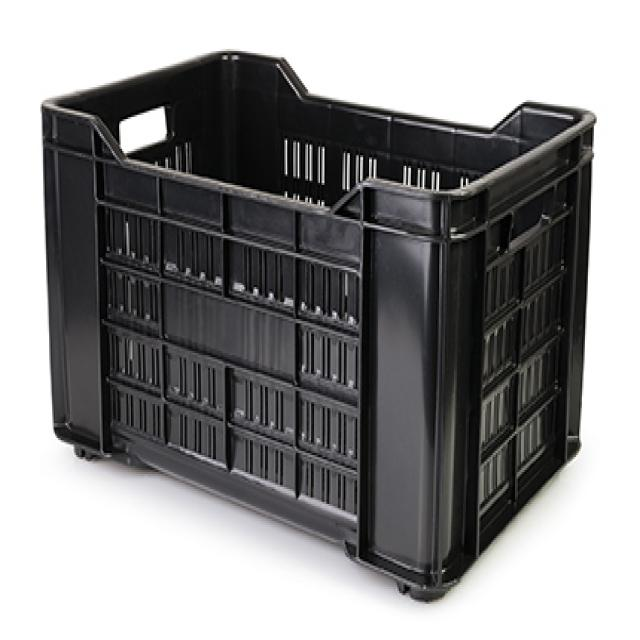basket: (20, 42, 599, 605)
